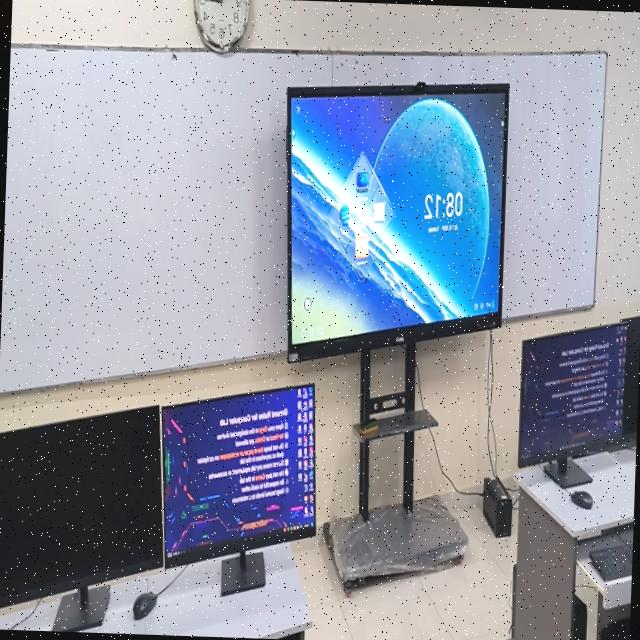Digital board: (285, 81, 508, 361)
Keyboard: (588, 541, 632, 581)
Monitor: (0, 404, 162, 605), (160, 383, 314, 566), (518, 321, 626, 465)
Mouse: (132, 590, 157, 619), (569, 489, 591, 508)
